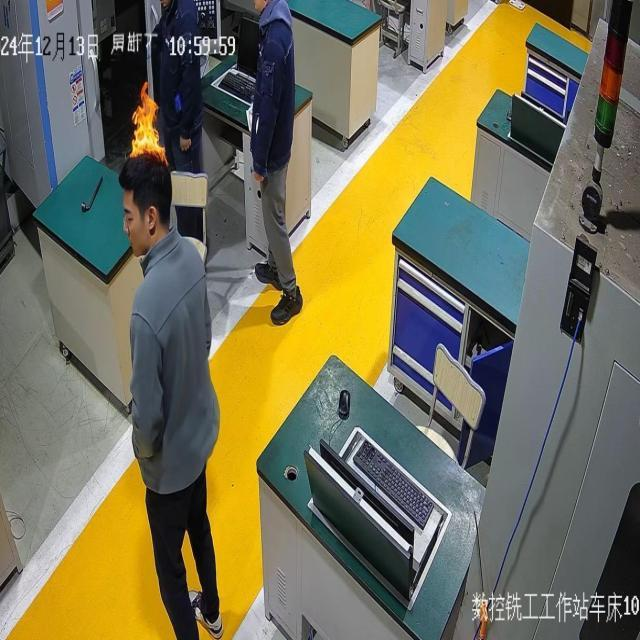smoke: (128, 78, 168, 164)
